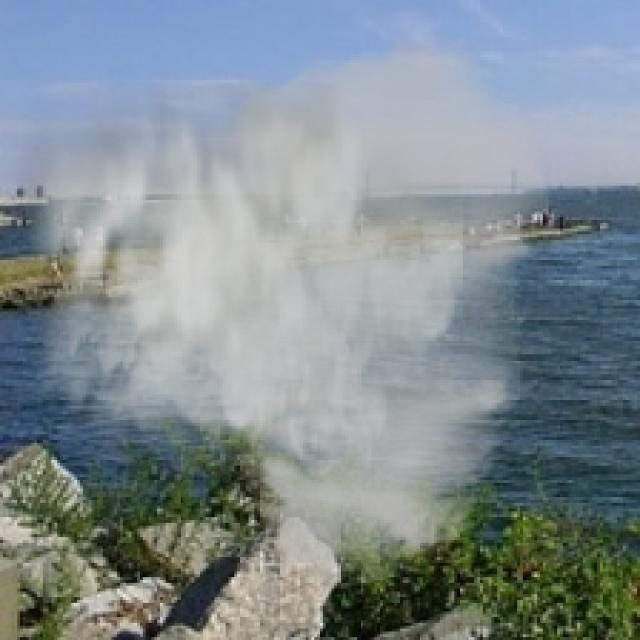smoke: (0, 28, 555, 592)
